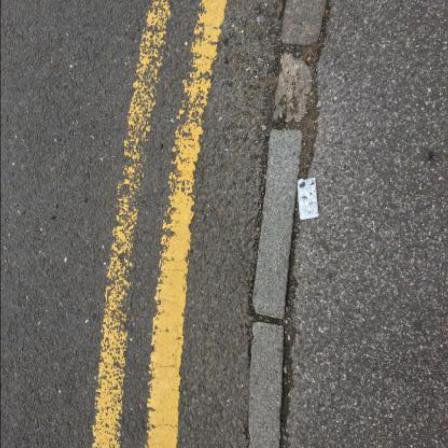Other litter: (298, 179, 320, 221)
